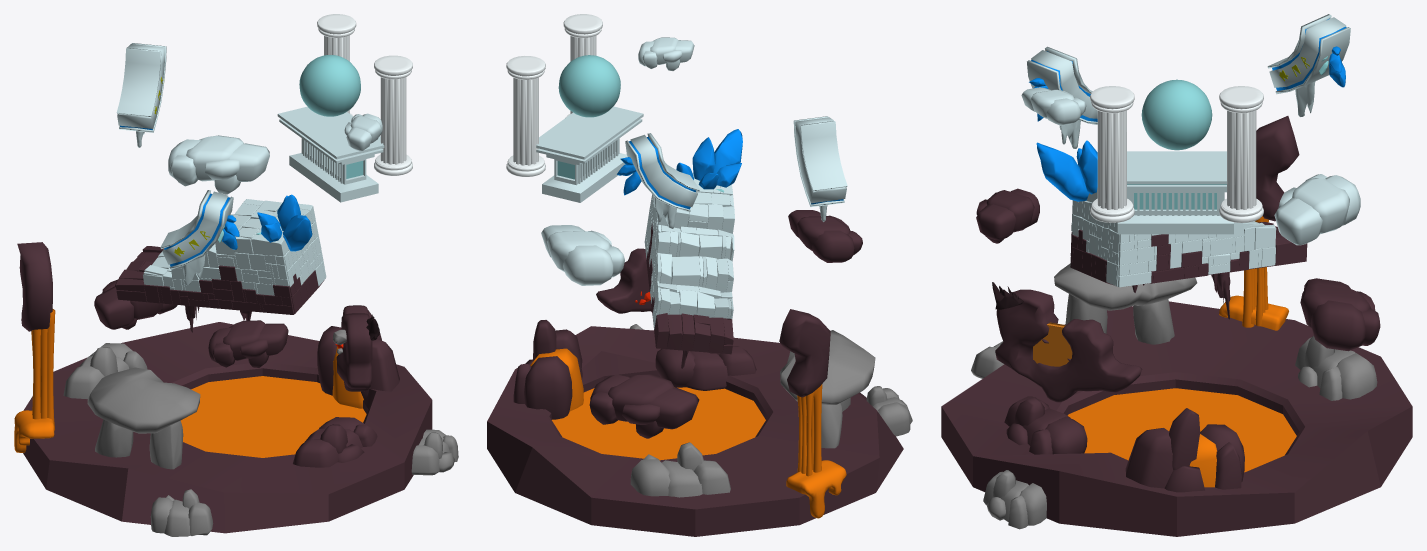
Rendered from stage2_preview.fbx.
3 views of the same model, side by side, from view 1: azimuth 30°, elevation 25°; view 2: azimuth 150°, elevation 25°; view 3: azimuth 270°, elevation 25° (orthographic). The views are drawn at different scales.
Parts seen in each view (by area): view 1: lava_down1; view 2: lava_down1; view 3: lava_down1.
Boxes of the visible parts, x1,y1,x2,y2 form: lava_down1: (14,14,458,536); lava_down1: (487,14,912,536); lava_down1: (941,14,1412,536).
Size of the model in its own units: 24 by 23.87 by 24.
